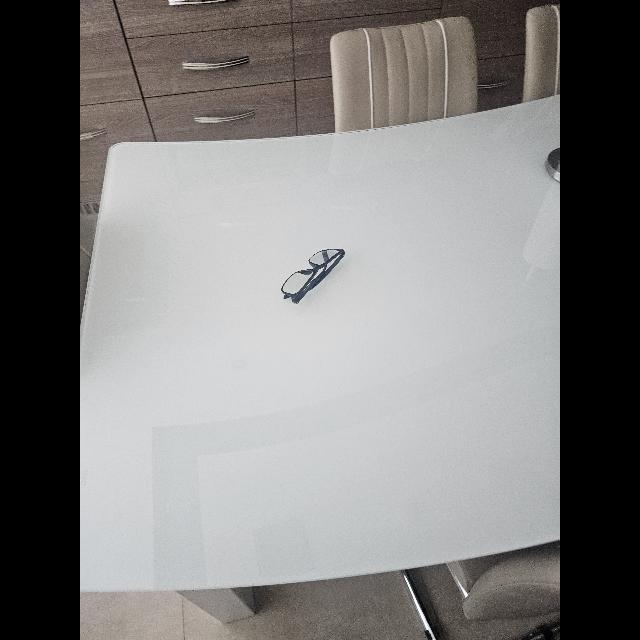glasses: (282, 249, 344, 303)
